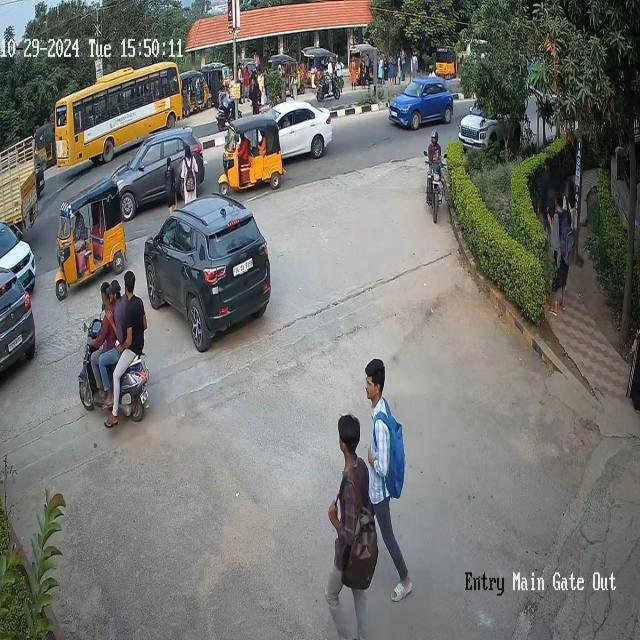triple_rider: (77, 272, 149, 423)
